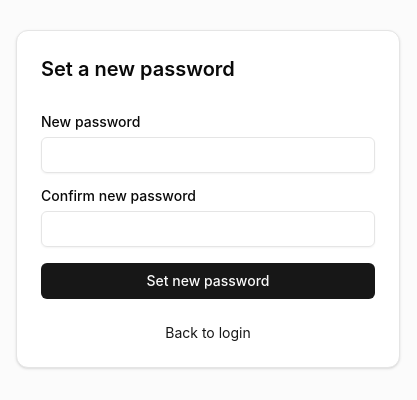
Scenario: PasswordResetConfirmPage › maps backend field errors (e.g. mismatched confirmation) onto the matching input
Type "NewPassword!1" into the password field labelled "New password". click: (208, 155)
box: [41,137,375,173]
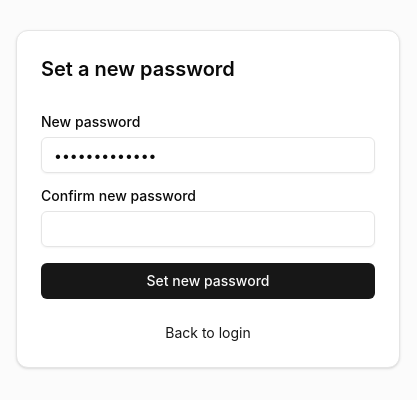
Type "Mismatched!1" into the password field labelled "Confirm new password". click: (208, 229)
box: [41,211,375,247]
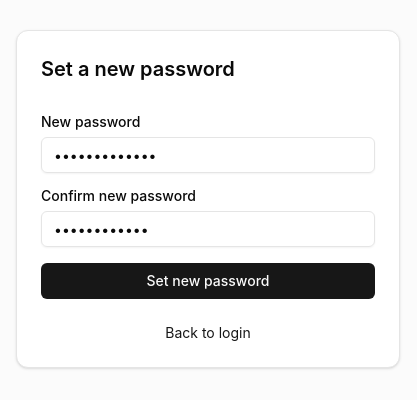
Click the button "Set new password". click: (208, 281)
box: [41,263,375,299]
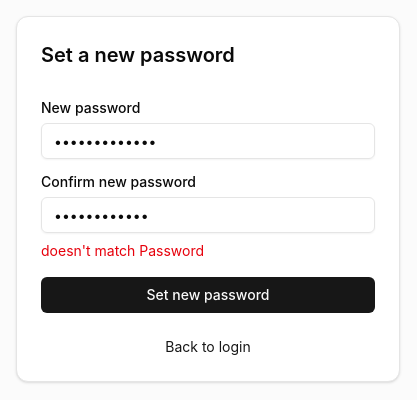
Result: the text "doesn't match Password" is shown at [41,242,204,259]
